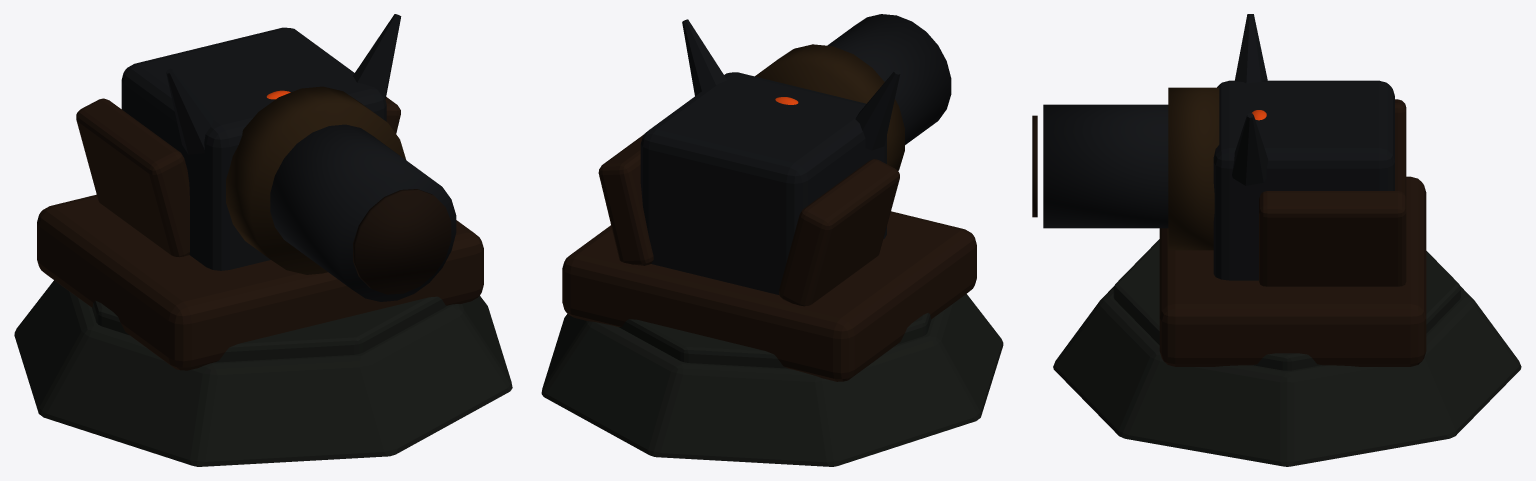
File: TowerChaos0_pose.obj
3 views of the same model, side by side, from view 1: azimuth 30°, elevation 25°; view 2: azimuth 150°, elevation 25°; view 3: azimuth 270°, elevation 25° (orthographic). The views are drawn at different scales.
Parts seen in each view (by area): view 1: black_stone_furnace_base_lower_course, oak_fire_cradle, iron_furnace_jacket, iron_blast_barrel, bronze_blast_collar, oak_bellows_arm, black_fire_mouth, black_stone_furnace_base_upper_course, iron_heat_fin, iron_heat_fin.001; view 2: black_stone_furnace_base_lower_course, iron_furnace_jacket, oak_fire_cradle, oak_bellows_arm, iron_blast_barrel, bronze_blast_collar, oak_bellows_arm.001, black_stone_furnace_base_upper_course, iron_heat_fin, iron_heat_fin.001; view 3: black_stone_furnace_base_lower_course, oak_fire_cradle, iron_furnace_jacket, iron_blast_barrel, oak_bellows_arm.001, bronze_blast_collar, black_stone_furnace_base_upper_course, iron_heat_fin.001, iron_heat_fin, oak_bellows_arm, black_fire_mouth.
Part boxes in pixels (bbox=[...]): black_stone_furnace_base_lower_course: bbox=[14, 280, 512, 466]; oak_fire_cradle: bbox=[37, 194, 483, 370]; iron_furnace_jacket: bbox=[121, 27, 386, 270]; iron_blast_barrel: bbox=[270, 124, 456, 301]; bronze_blast_collar: bbox=[226, 86, 405, 274]; oak_bellows_arm: bbox=[76, 98, 189, 256]; black_fire_mouth: bbox=[353, 189, 451, 294]; black_stone_furnace_base_upper_course: bbox=[92, 296, 446, 362]; iron_heat_fin: bbox=[166, 68, 214, 154]; iron_heat_fin.001: bbox=[353, 14, 401, 99]; black_stone_furnace_base_lower_course: bbox=[541, 294, 1003, 466]; iron_furnace_jacket: bbox=[640, 72, 886, 294]; oak_fire_cradle: bbox=[562, 211, 976, 381]; oak_bellows_arm: bbox=[779, 159, 899, 306]; iron_blast_barrel: bbox=[827, 14, 951, 144]; bronze_blast_collar: bbox=[755, 44, 904, 170]; oak_bellows_arm.001: bbox=[598, 134, 653, 265]; black_stone_furnace_base_upper_course: bbox=[619, 313, 931, 368]; iron_heat_fin: bbox=[855, 70, 900, 150]; iron_heat_fin.001: bbox=[682, 19, 726, 95]; black_stone_furnace_base_lower_course: bbox=[1053, 286, 1521, 466]; oak_fire_cradle: bbox=[1159, 176, 1426, 366]; iron_furnace_jacket: bbox=[1213, 80, 1394, 280]; iron_blast_barrel: bbox=[1043, 104, 1168, 228]; oak_bellows_arm.001: bbox=[1259, 191, 1406, 286]; bronze_blast_collar: bbox=[1168, 87, 1219, 250]; black_stone_furnace_base_upper_course: bbox=[1113, 239, 1460, 370]; iron_heat_fin.001: bbox=[1232, 113, 1268, 185]; iron_heat_fin: bbox=[1234, 14, 1267, 83]; oak_bellows_arm: bbox=[1395, 99, 1406, 198]; black_fire_mouth: bbox=[1032, 115, 1037, 217].
Bounding box in the file's own units: 1.65 × 1.19 × 1.73.
